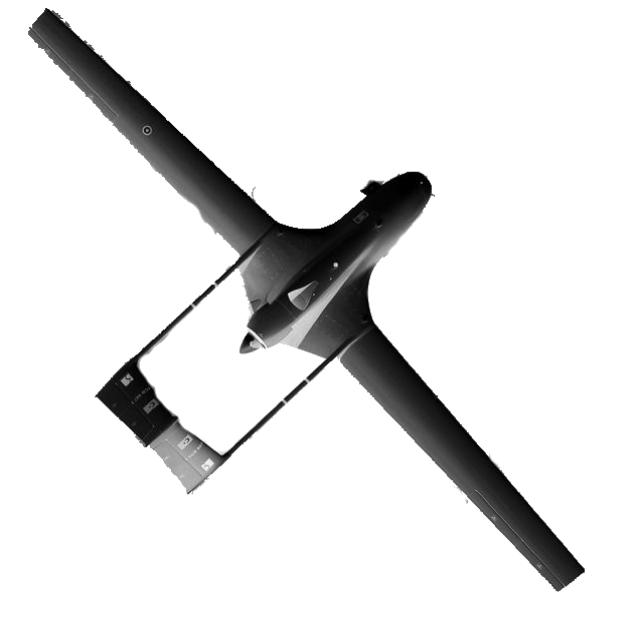iha: (28, 3, 578, 589)
